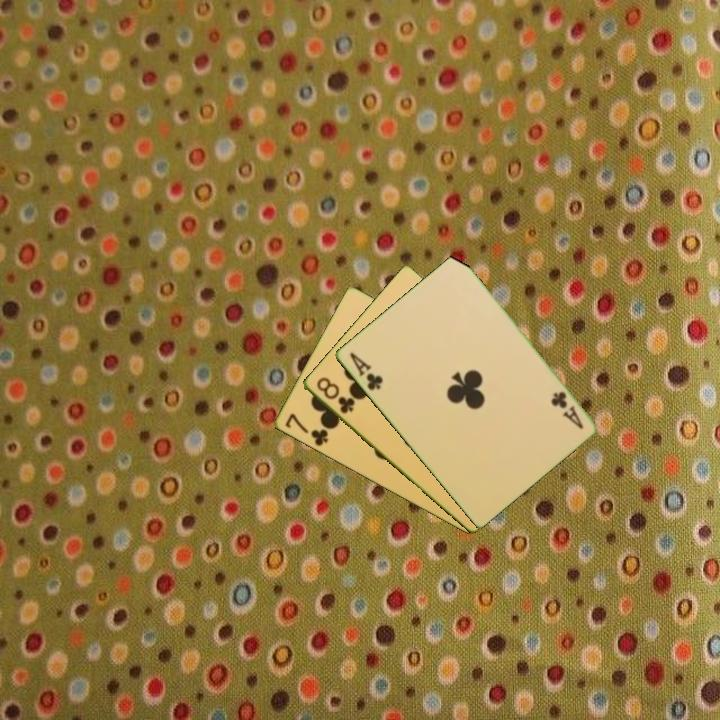7c: (281, 410, 331, 449)
8c: (312, 374, 358, 417)
Ac: (346, 349, 386, 393), (547, 388, 586, 432)
